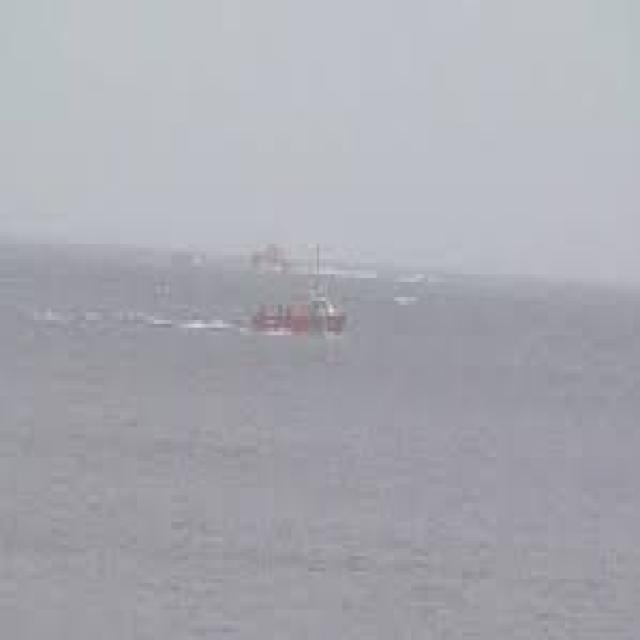fishing boat: (254, 271, 363, 332)
